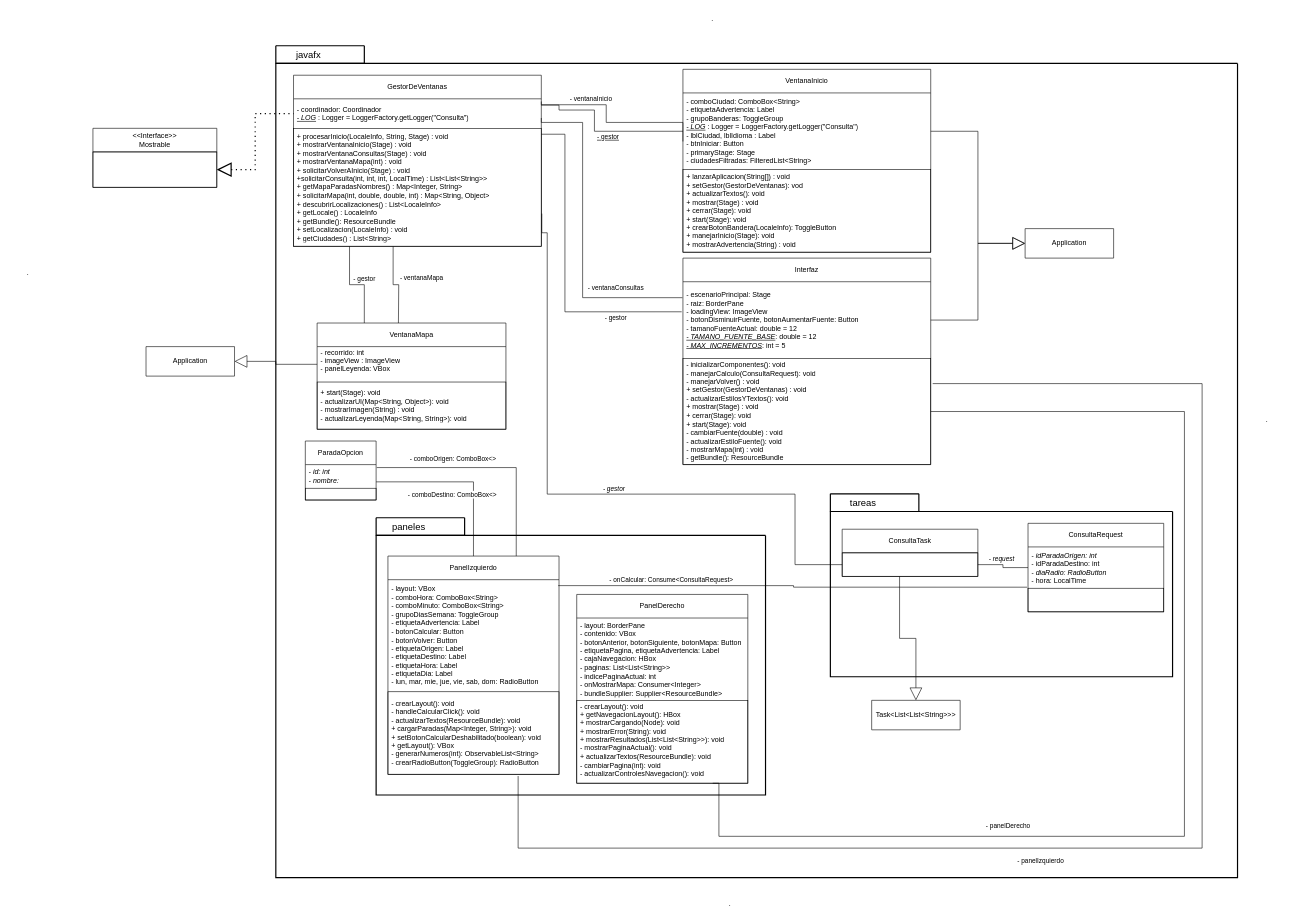
Image size: 1294x923. Some labels were removed from this diagram. The centre of each missing label's shape, as x and y in pixels:
"+ call(): List<List<String>>" belongs at pixel 910 564.
"+ getDiaSemana(ResourceBundle): int" belongs at pixel 1095 600.
"setCoordinador(Coordinador): void mostrar(String[]): void" belongs at pixel 154 169.
